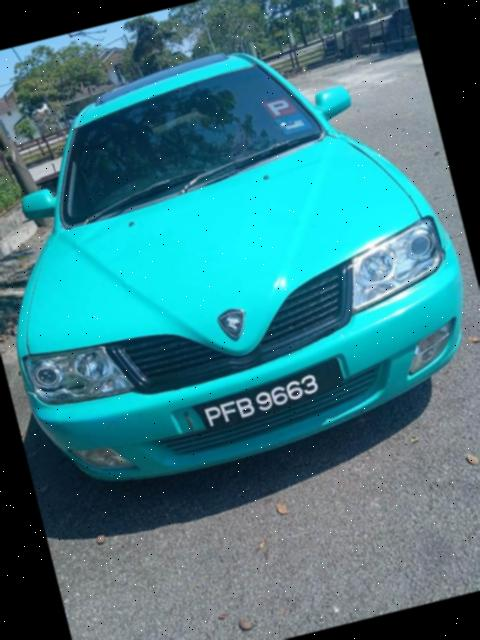License_Plate: (191, 364, 340, 437)
